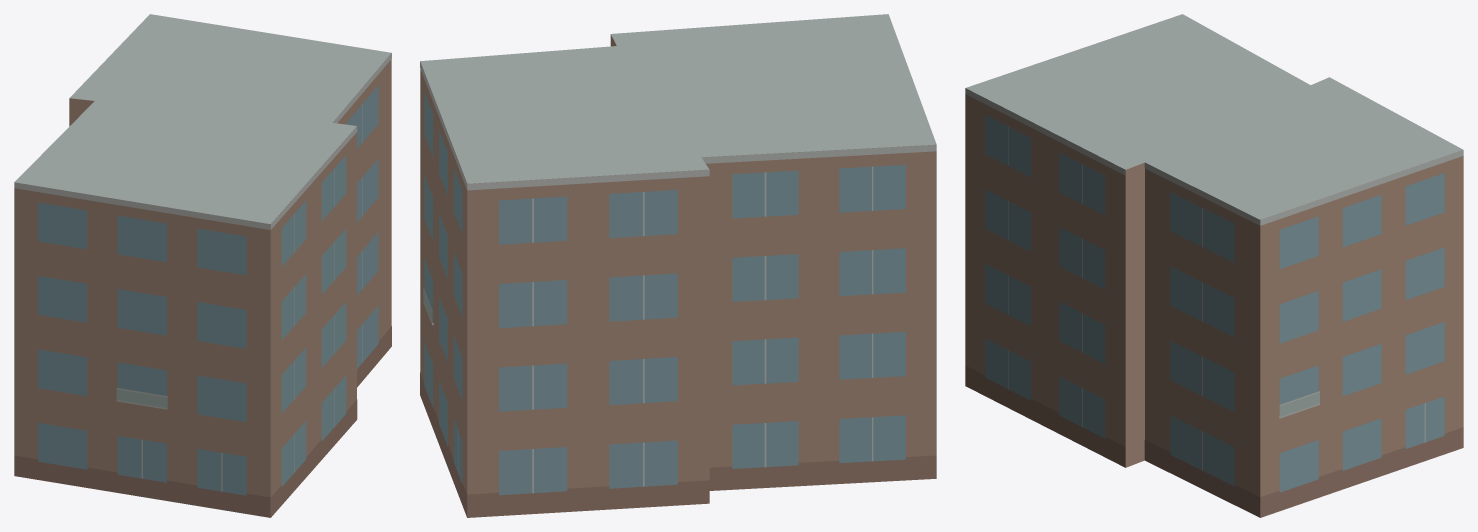
The model's file is survey-upis-32774868.glb.
The picture shows the model from 3 angles, left to right: view 1: azimuth 30°, elevation 25°; view 2: azimuth 150°, elevation 25°; view 3: azimuth 270°, elevation 25°; orthographic projection. The views are drawn at different scales.
Visible parts, largest first — view 1: survey-upis-32774868.tmp; view 2: survey-upis-32774868.tmp; view 3: survey-upis-32774868.tmp.
Boxes of the visible parts, x1=… form: survey-upis-32774868.tmp: x1=14, y1=14, x2=391, y2=517; survey-upis-32774868.tmp: x1=420, y1=14, x2=936, y2=517; survey-upis-32774868.tmp: x1=965, y1=14, x2=1463, y2=517.
Size of the model in its own units: 18.09 by 12.2 by 18.5.
